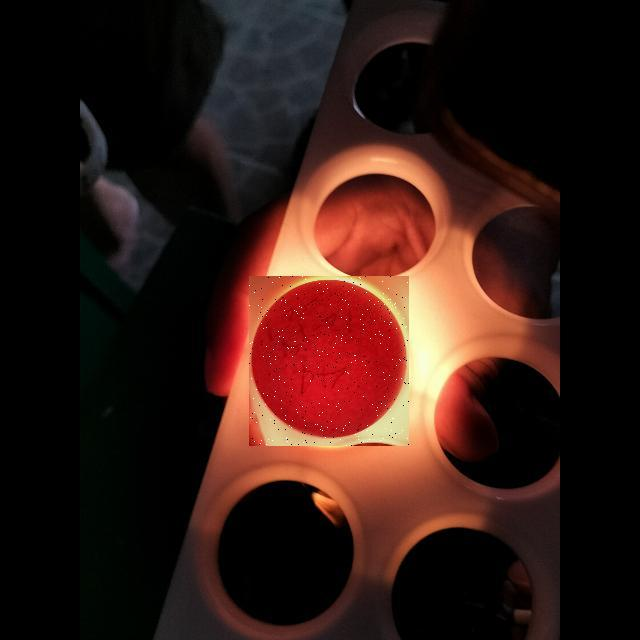Infertile: (249, 276, 409, 446)
